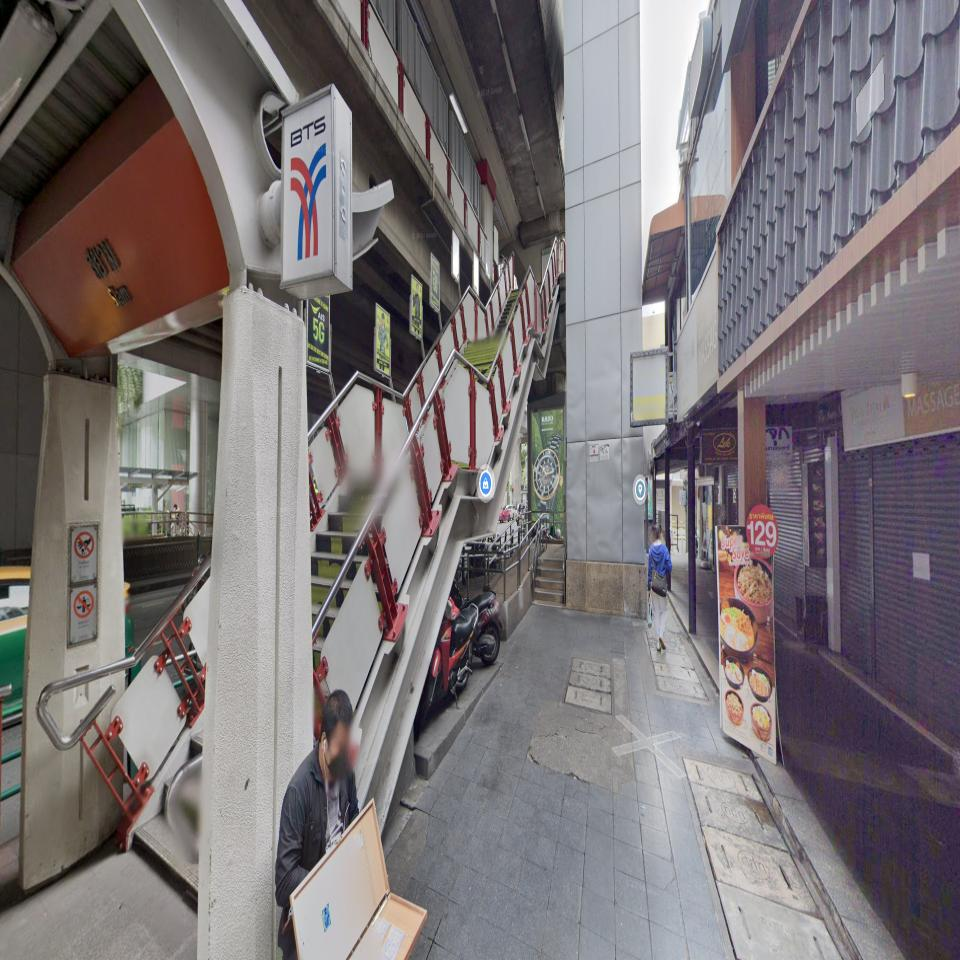signage: (9, 84, 335, 361), (9, 113, 231, 361)
